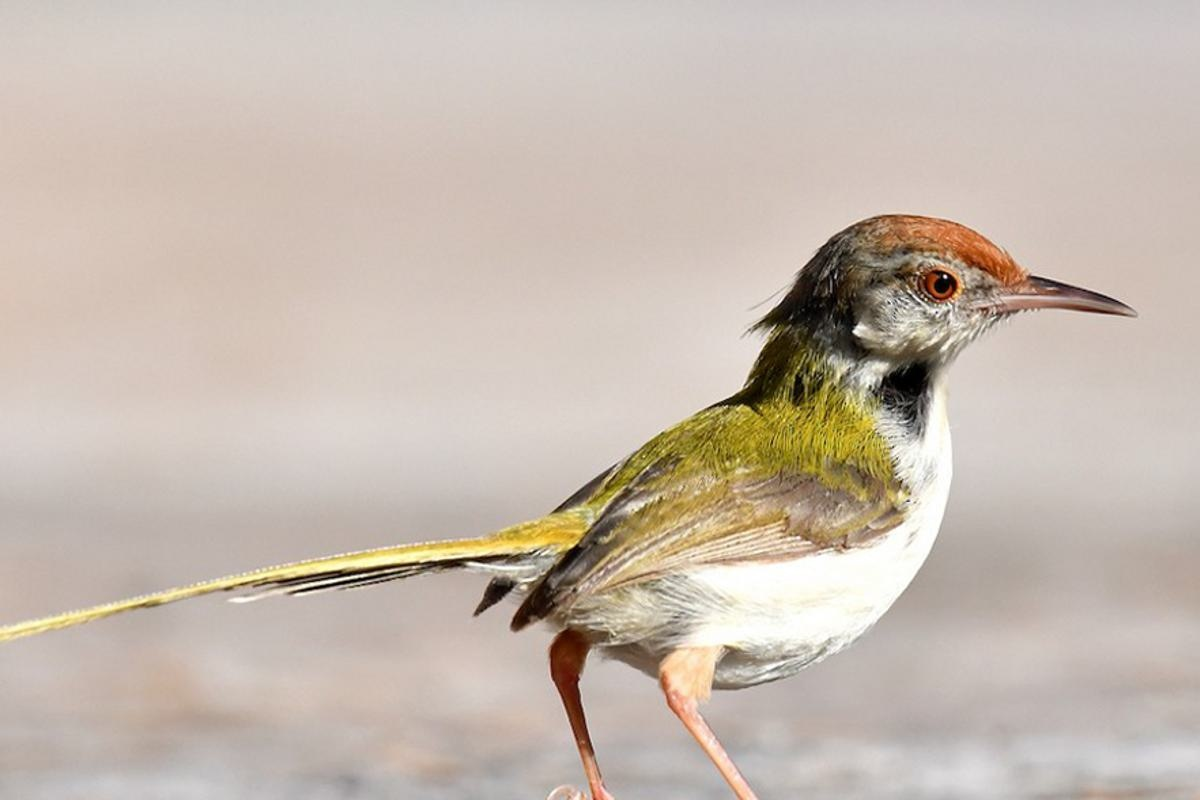tailorbird: (50, 208, 1145, 772)
